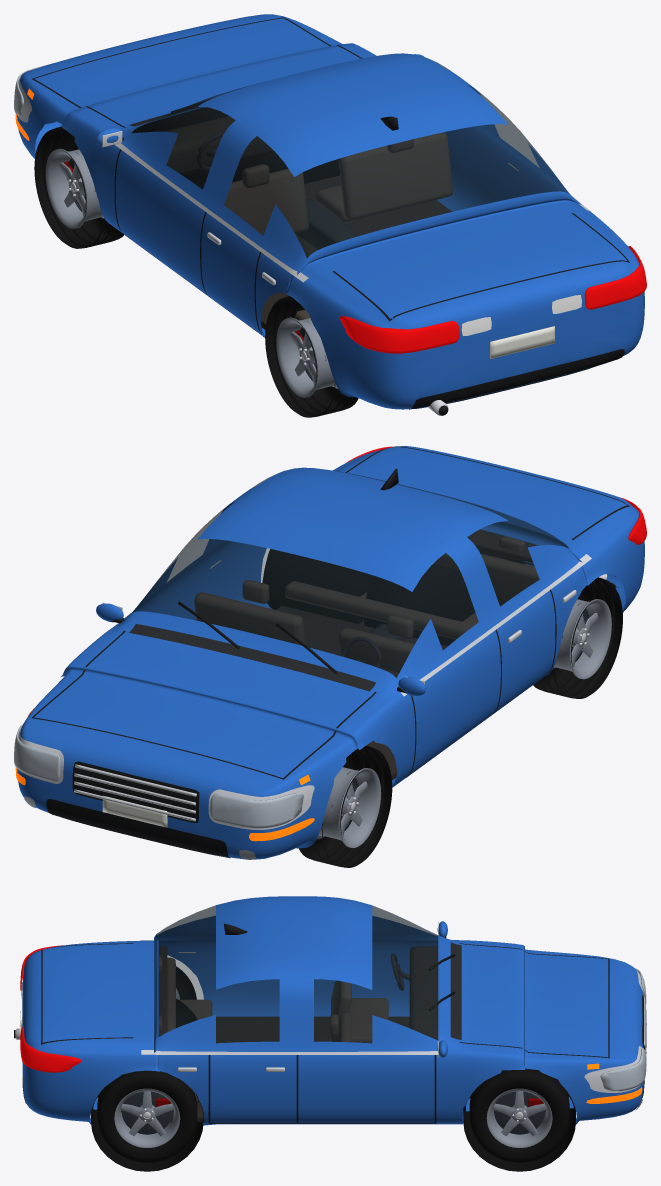
File: Sedan.fbx
3 renders of one model, top to bottom at view 1: azimuth 30°, elevation 25°; view 2: azimuth 150°, elevation 25°; view 3: azimuth 270°, elevation 25°, orthographic. The views are drawn at different scales.
Visible parts, largest first — view 1: Sedan_Body, Sedan_Trim, Sedan_Glass, Sedan_Wheel3, Sedan_Wheel1, Sedan_Lights; view 2: Sedan_Body, Sedan_Trim, Sedan_Glass, Sedan_Wheel1, Sedan_Wheel3, Sedan_Lights; view 3: Sedan_Body, Sedan_Glass, Sedan_Trim, Sedan_Wheel2, Sedan_Wheel4, Sedan_Lights, Sedan_Wheel3.
Boxes of the visible parts, x1,y1,x2,y2 form: Sedan_Body: [17, 14, 644, 409]; Sedan_Trim: [17, 17, 629, 415]; Sedan_Glass: [132, 60, 568, 258]; Sedan_Wheel3: [265, 296, 358, 417]; Sedan_Wheel1: [34, 126, 124, 248]; Sedan_Lights: [14, 16, 646, 353]; Sedan_Body: [17, 446, 644, 859]; Sedan_Trim: [18, 446, 629, 858]; Sedan_Glass: [132, 472, 568, 677]; Sedan_Wheel1: [298, 746, 392, 867]; Sedan_Wheel3: [533, 577, 622, 698]; Sedan_Lights: [14, 446, 646, 859]; Sedan_Body: [22, 896, 643, 1125]; Sedan_Glass: [156, 905, 438, 1042]; Sedan_Trim: [14, 921, 646, 1171]; Sedan_Wheel2: [469, 1070, 569, 1162]; Sedan_Wheel4: [97, 1070, 197, 1162]; Sedan_Lights: [20, 945, 646, 1110]; Sedan_Wheel3: [176, 966, 196, 999].
Bounding box in the file's own units: 7.68 × 5.23 × 15.81.
